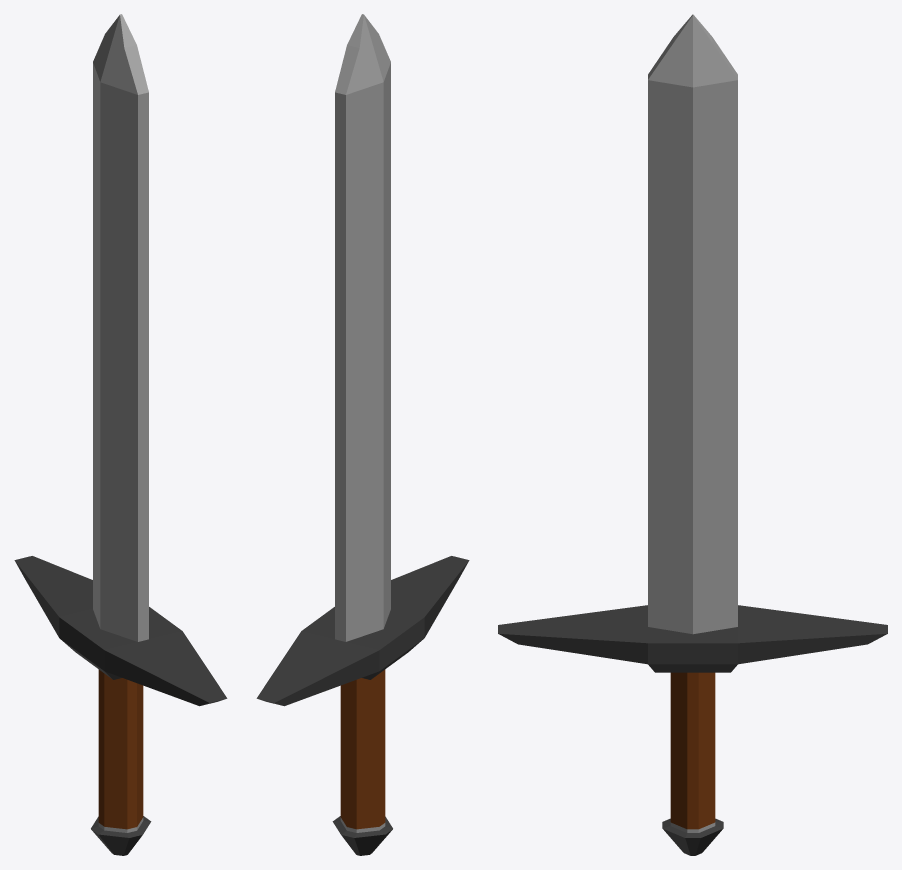
Rendered from espada.glb.
3 renders of one model, left to right at view 1: azimuth 30°, elevation 25°; view 2: azimuth 150°, elevation 25°; view 3: azimuth 270°, elevation 25°, orthographic.
Parts seen in each view (by area): view 1: Cube; view 2: Cube; view 3: Cube.
Boxes of the visible parts, left/top/right/bottom form: Cube: left=14, top=14, right=227, bottom=855; Cube: left=256, top=14, right=469, bottom=855; Cube: left=498, top=14, right=887, bottom=855.
Bounding box in the file's own units: 0.8887 × 9.1 × 3.84.
